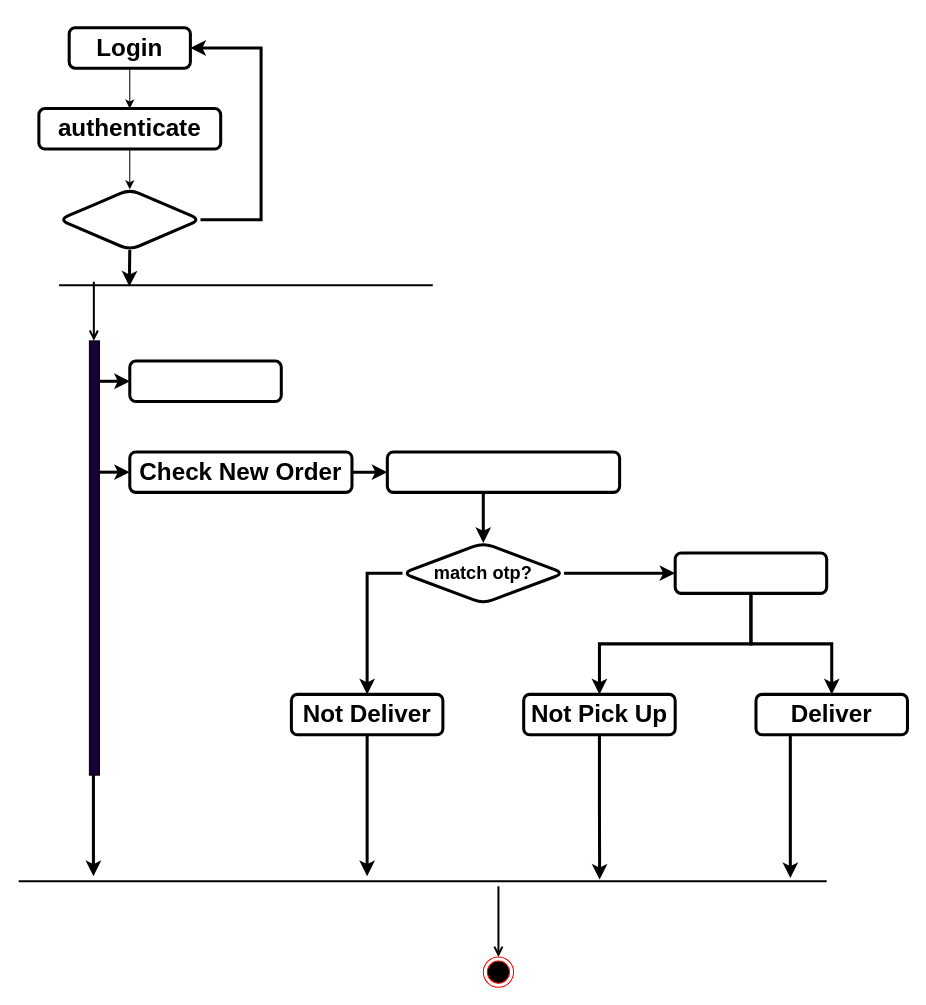
Image size: 926x1005. Some labels were removed from this diagram. Here are the shapes that lost their labels. From the top down, the box of each, then its label:
(57, 187, 201, 251): is valid?
(128, 359, 282, 402): Profile
(385, 450, 621, 493): Validate customer
(673, 551, 828, 594): Set action
